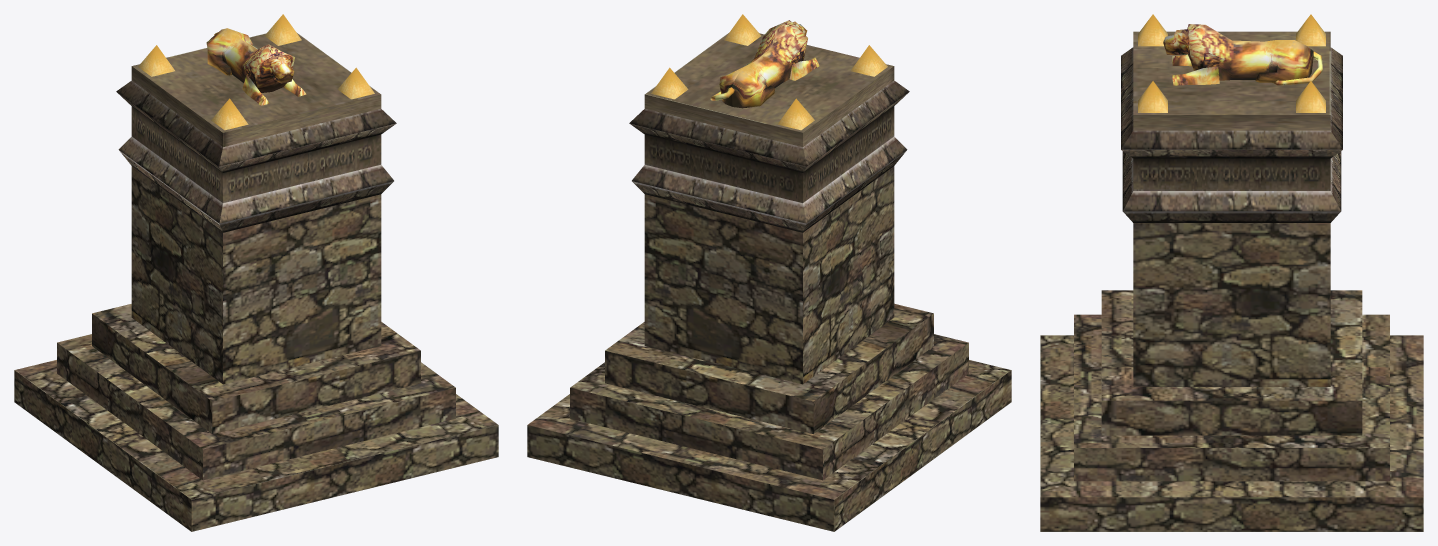
The model's file is iber_sb_mon_1.dae.
The picture shows the model from 3 angles, left to right: view 1: azimuth 30°, elevation 25°; view 2: azimuth 150°, elevation 25°; view 3: azimuth 270°, elevation 25°; orthographic projection. The views are drawn at different scales.
Parts seen in each view (by area): view 1: Body01; view 2: Body01; view 3: Body01.
Boxes of the visible parts, x1,y1,x2,y2 form: Body01: [14, 14, 498, 531]; Body01: [527, 14, 1011, 531]; Body01: [1040, 14, 1423, 531].
Bounding box in the file's own units: 8.2 × 8.2 × 10.08.
